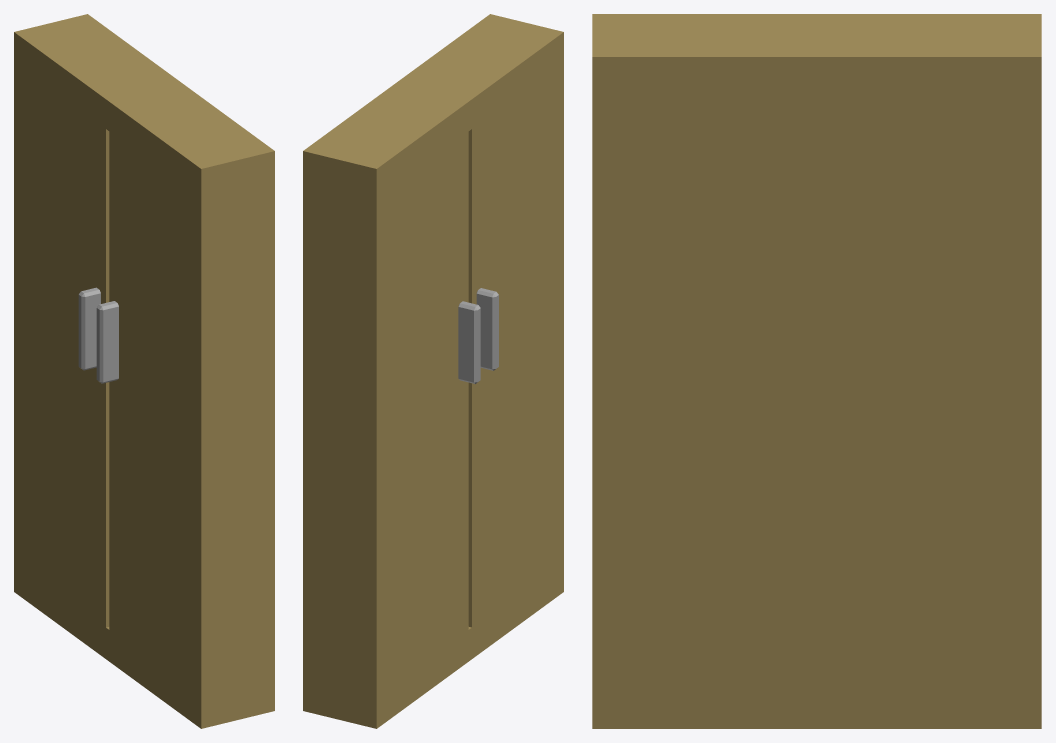
Rendered from glassesCabinet.fbx.
3 views of the same model, side by side, from view 1: azimuth 30°, elevation 25°; view 2: azimuth 150°, elevation 25°; view 3: azimuth 270°, elevation 25° (orthographic). The views are drawn at different scales.
Visible parts, largest first — view 1: pCube134, pCube136, pCube137; view 2: pCube134, pCube137, pCube136; view 3: pCube134.
Part boxes in pixels (x1=…): pCube134: x1=14, y1=14, x2=274, y2=728; pCube136: x1=96, y1=301, x2=118, y2=383; pCube137: x1=78, y1=287, x2=100, y2=370; pCube134: x1=303, y1=14, x2=563, y2=728; pCube137: x1=458, y1=301, x2=480, y2=383; pCube136: x1=476, y1=288, x2=498, y2=370; pCube134: x1=592, y1=14, x2=1041, y2=728.
Size of the model in its own units: 1.25 by 7.26 by 4.4.
